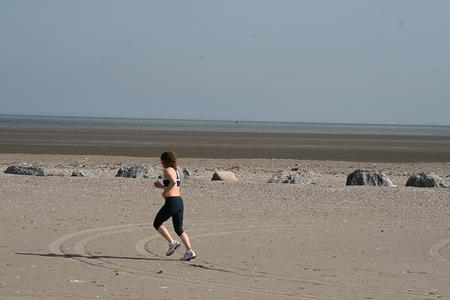person: (151, 151, 198, 263)
